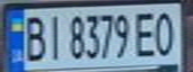3: (81, 11, 100, 60)
7: (97, 10, 118, 60)
8: (63, 10, 84, 60)
9: (112, 10, 136, 58)
B: (21, 11, 48, 62)
E: (133, 8, 160, 59)
I: (42, 11, 66, 62)
O: (151, 7, 181, 57)
